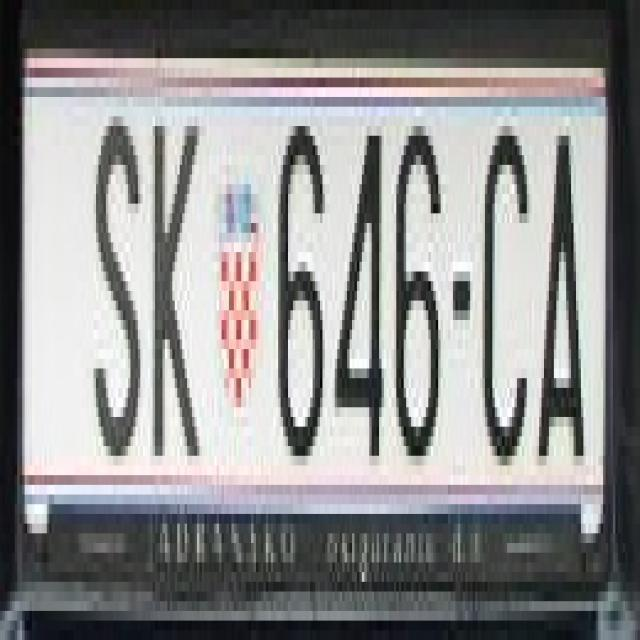4: (330, 107, 384, 466)
6: (392, 107, 441, 466), (278, 116, 328, 456)
A: (532, 107, 590, 456)
C: (478, 117, 532, 494)
K: (148, 107, 199, 456)
S: (91, 107, 138, 466)
